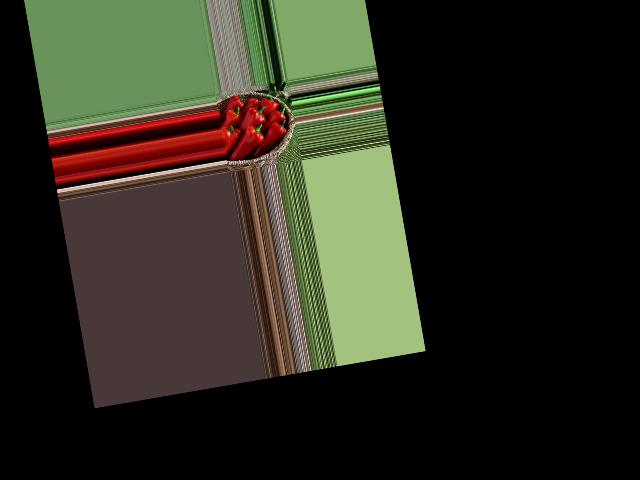bell_pepper: (266, 105, 290, 125)
